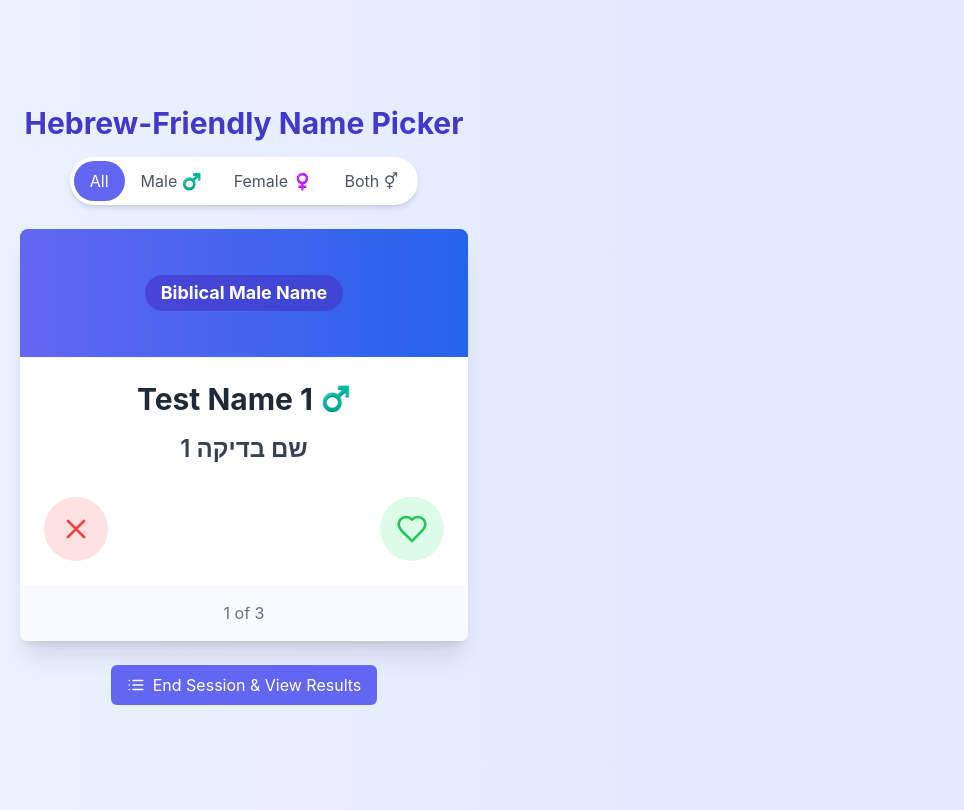
it: HebrewNamesTinder › moves to next name when dislike button is clicked
Note: Click the dislike button
Click the button named "Dislike" at (76, 529), box [44, 497, 108, 561]
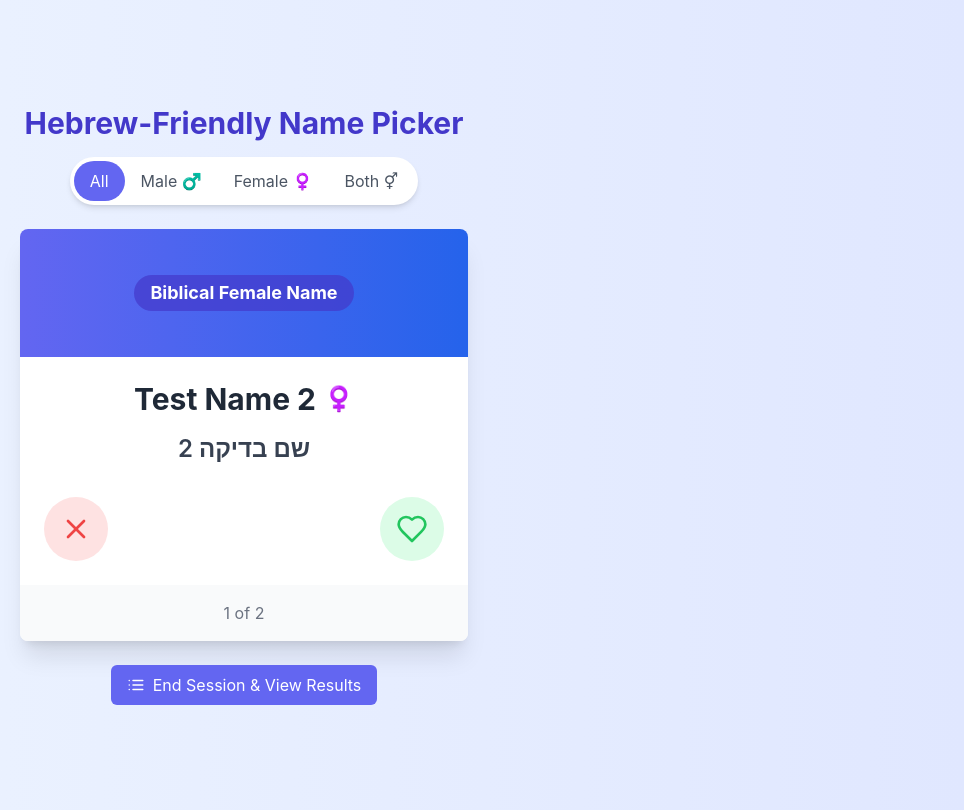
Expected: the heading "Test Name" no longer shows "Test Name 1"
